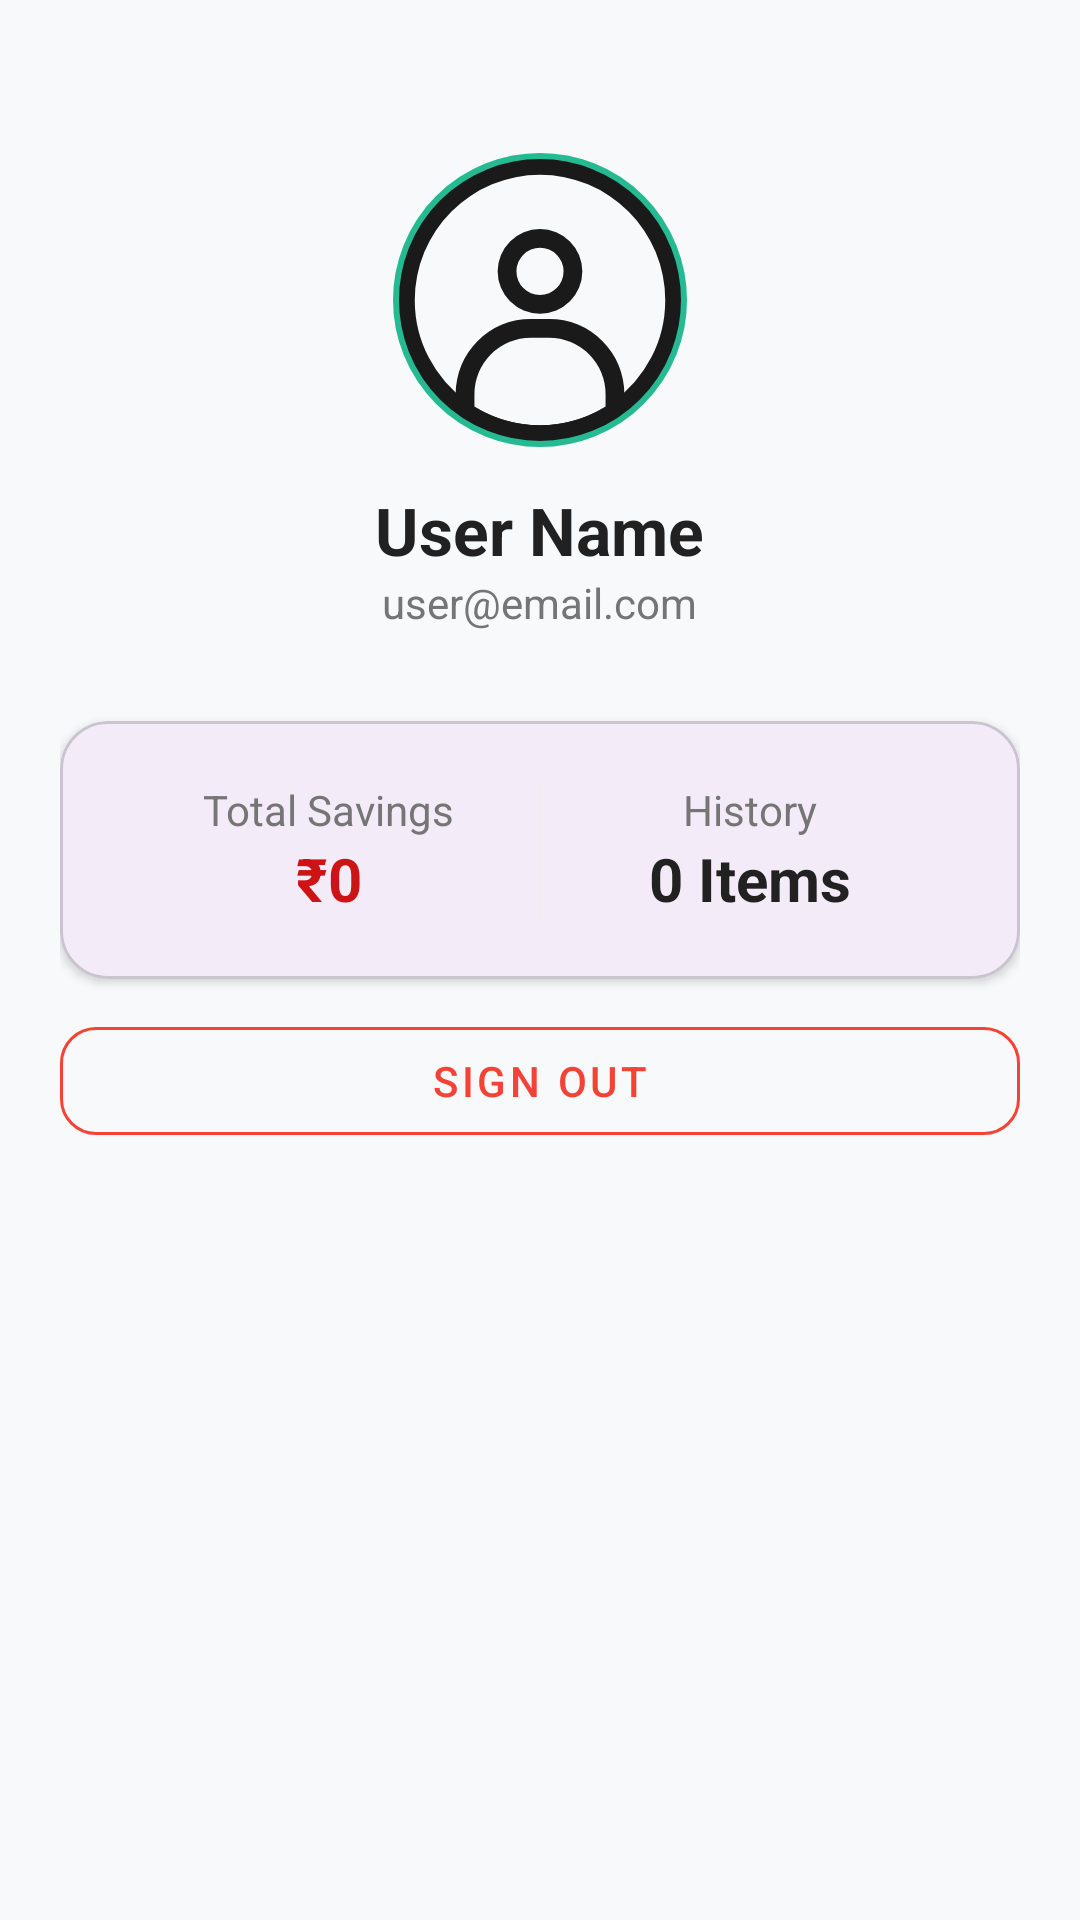

Point at icon controls on the screen. Image size 1080 x 1920, points as (x=x, y=y).
profile: (x=540, y=300)
